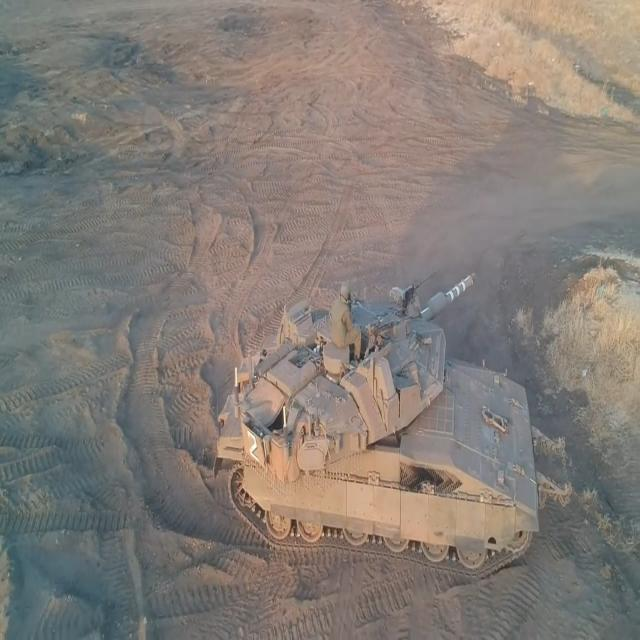Tanks: (220, 286, 570, 588)
